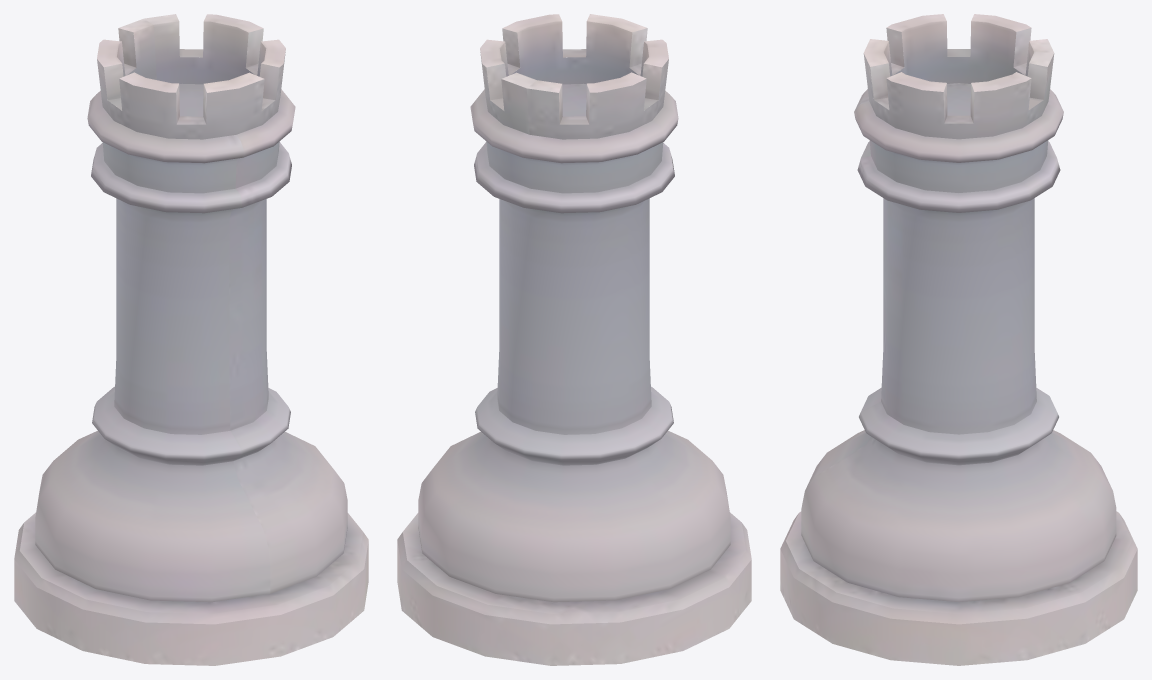
Rendered from castle_white.glb.
The picture shows the model from 3 angles, left to right: view 1: azimuth 30°, elevation 25°; view 2: azimuth 150°, elevation 25°; view 3: azimuth 270°, elevation 25°; orthographic projection.
Parts seen in each view (by area): view 1: mesh_0, mesh_0_1; view 2: mesh_0, mesh_0_1; view 3: mesh_0, mesh_0_1.
Boxes of the visible parts, x1,y1,x2,y2 form: mesh_0: (14,14,368,665); mesh_0_1: (104,28,279,124); mesh_0: (397,14,751,665); mesh_0_1: (486,28,661,124); mesh_0: (780,14,1137,665); mesh_0_1: (870,28,1047,123).
Size of the model in its own units: 1.28 by 2.13 by 1.28.
2 materials, 2 textured.
